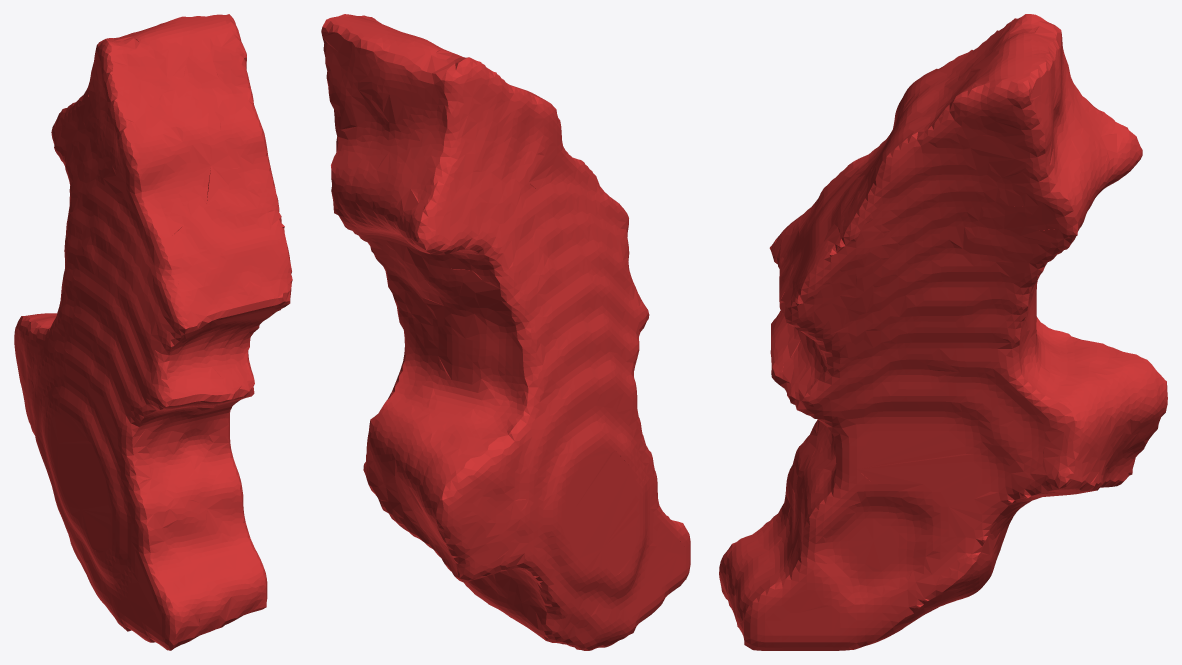
The model's file is Model_10130_LH__Temporal_area_TE3_(TE3).obj.
The picture shows the model from 3 angles, left to right: view 1: azimuth 30°, elevation 25°; view 2: azimuth 150°, elevation 25°; view 3: azimuth 270°, elevation 25°; orthographic projection. The views are drawn at different scales.
Size of the model in its own units: 3.26 by 8.5 by 5.38.
